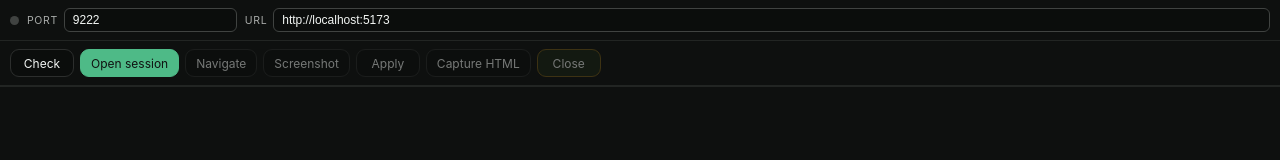
Test: BrowserWidget › keeps the contrast-sensitive widget class hooks in the rendered markup
Expected: the text "Port" is shown, [27, 14, 58, 26]
Click the button "Check" at (42, 63), box [10, 49, 74, 77]
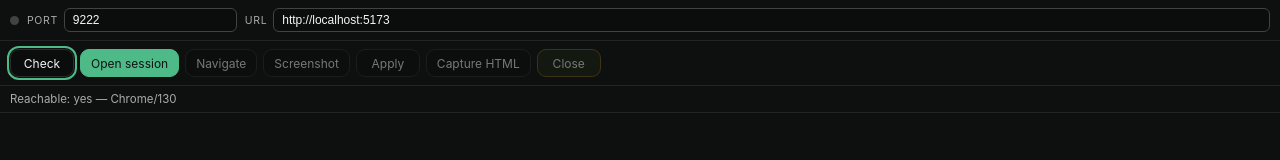
Expected: the text "Reachable: yes — Chrome/130" is shown, [10, 92, 177, 106]
Click the button "Open session" at (130, 63), box [80, 49, 179, 77]
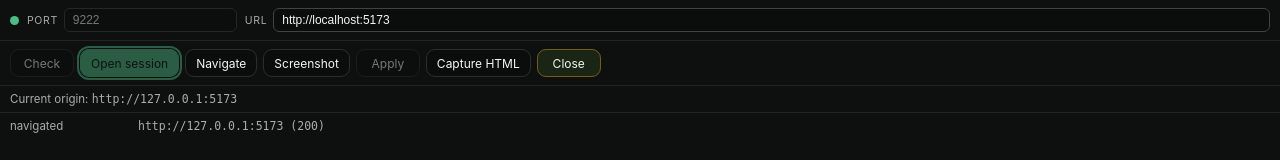
Expected: the element with class "bw-status" shows "http://127.0.0.1:5173", [92, 92, 237, 106]
Expected: the list item with class "bw-log-item" is shown, [10, 119, 325, 133]
Expected: the text "navigated" is shown, [10, 119, 63, 133]
